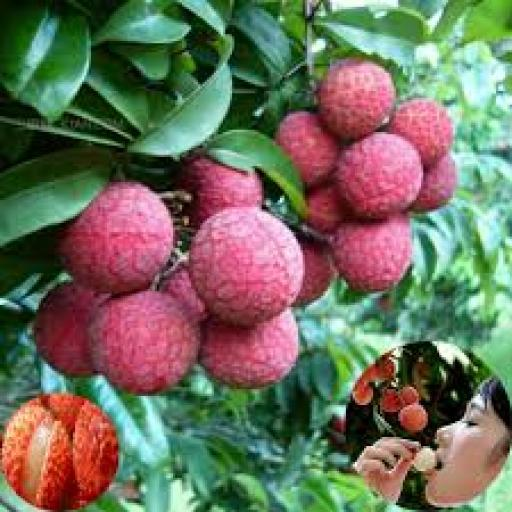lychee: (0, 394, 118, 509), (189, 208, 302, 325), (60, 183, 175, 293), (89, 292, 200, 393), (201, 310, 298, 389), (335, 132, 423, 218), (35, 283, 106, 375), (317, 60, 395, 141), (330, 214, 411, 291), (180, 158, 263, 227), (276, 112, 339, 186), (387, 98, 452, 166), (160, 262, 207, 323), (294, 239, 336, 304), (412, 155, 457, 211), (305, 183, 350, 234), (399, 403, 427, 432), (412, 447, 436, 473), (381, 387, 402, 414), (351, 381, 373, 405), (376, 355, 395, 380), (399, 385, 418, 407)
